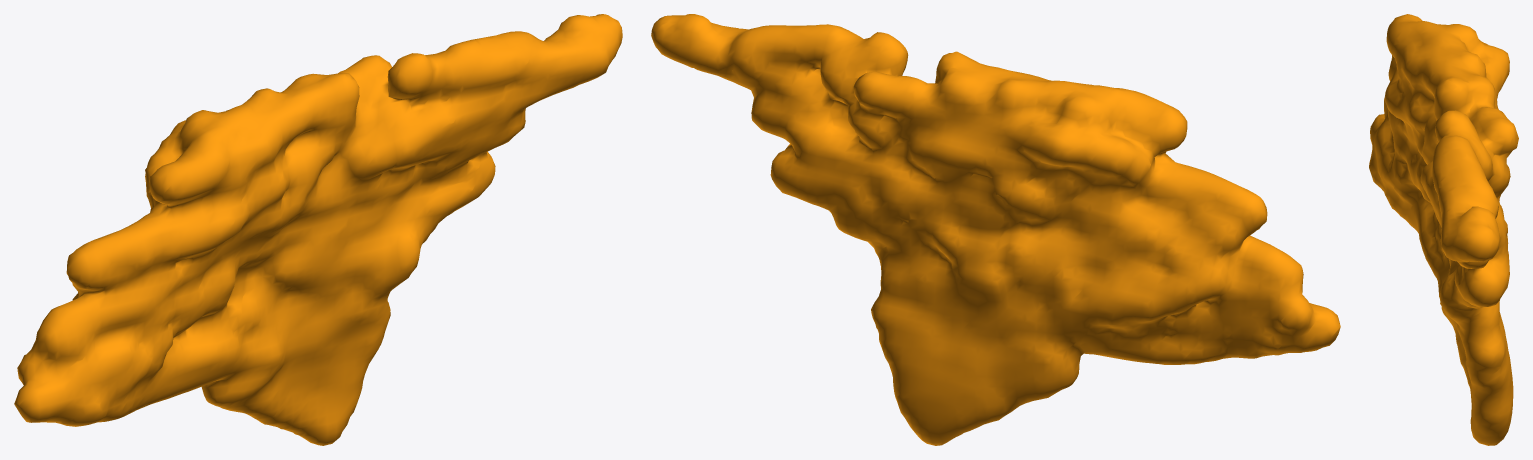
Rendered from coral.glb.
The picture shows the model from 3 angles, left to right: view 1: azimuth 30°, elevation 25°; view 2: azimuth 150°, elevation 25°; view 3: azimuth 270°, elevation 25°; orthographic projection. The views are drawn at different scales.
Parts seen in each view (by area): view 1: coral; view 2: coral; view 3: coral.
Part boxes in pixels (box(x1,y1,x2,y2)): coral: box(14, 14, 622, 445); coral: box(651, 14, 1340, 445); coral: box(1369, 14, 1518, 445).
Bounding box in the file's own units: 3.63 × 2.05 × 0.7644.
